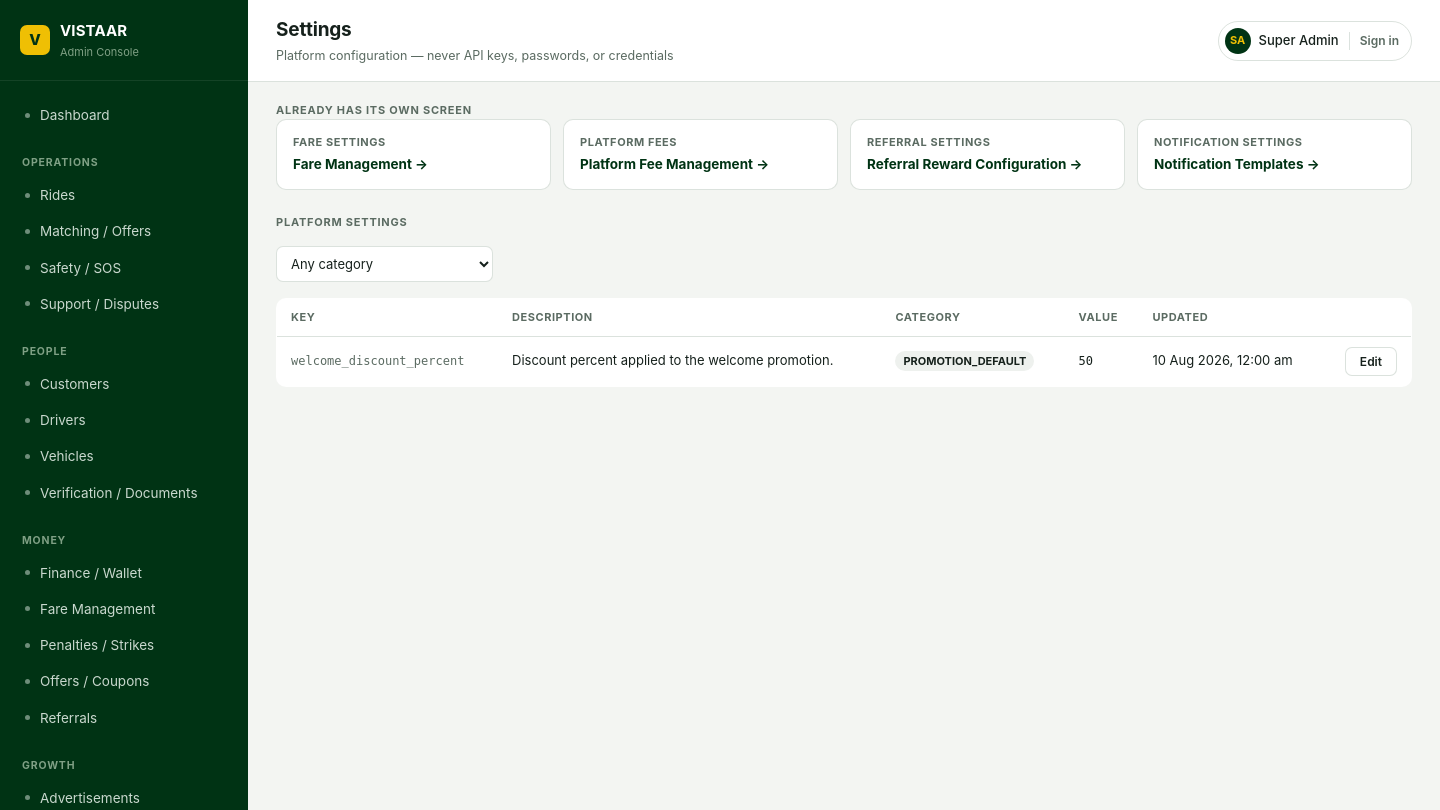
Scenario: SettingsPage › shows a validation error instead of saving on invalid JSON
The image size is (1440, 810).
Click the button "Edit": (1371,361) [1345,346,1397,376]
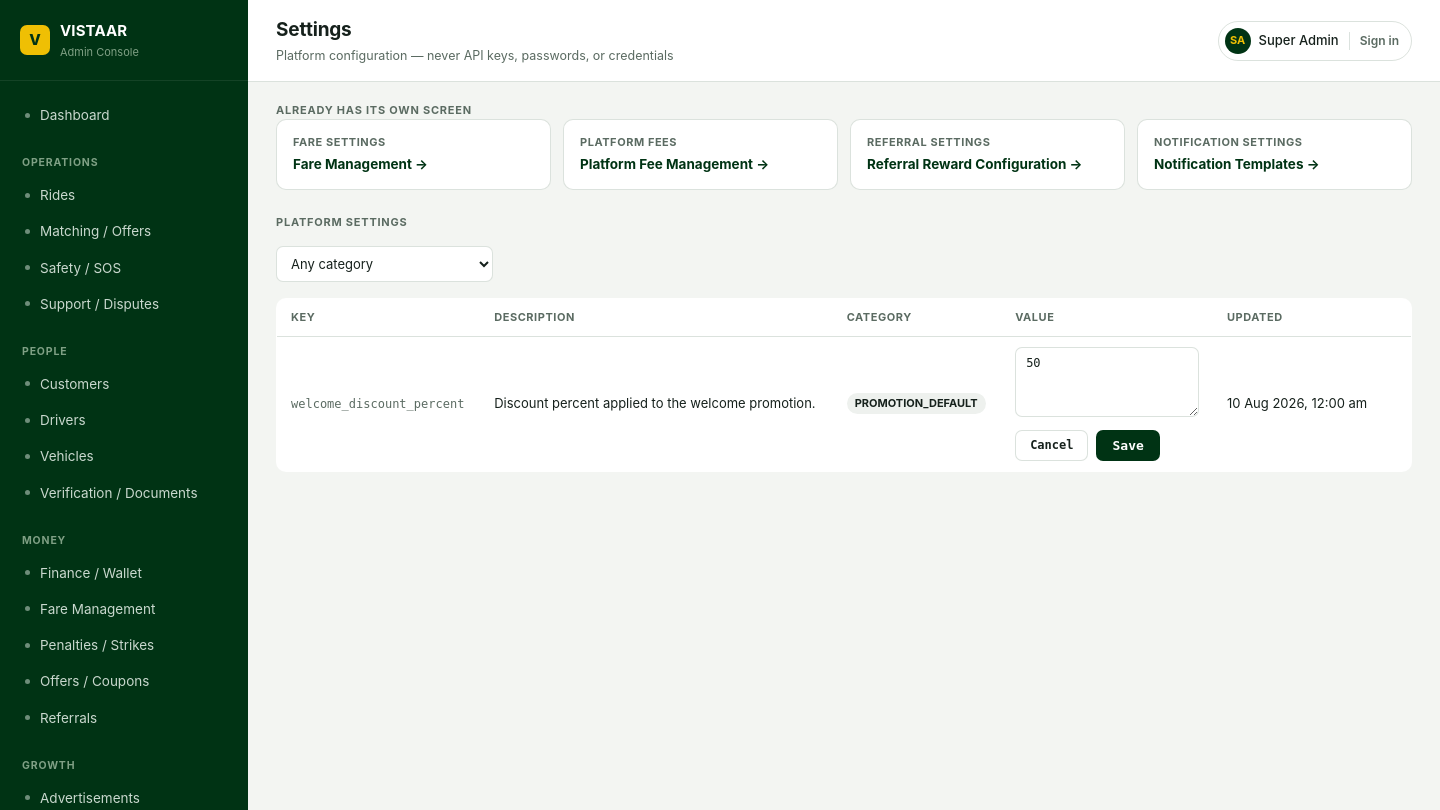
Replace the text in the text box named "Value for welcome_discount_percent" with "not valid json at all": (1107,382) [1015,346,1199,416]
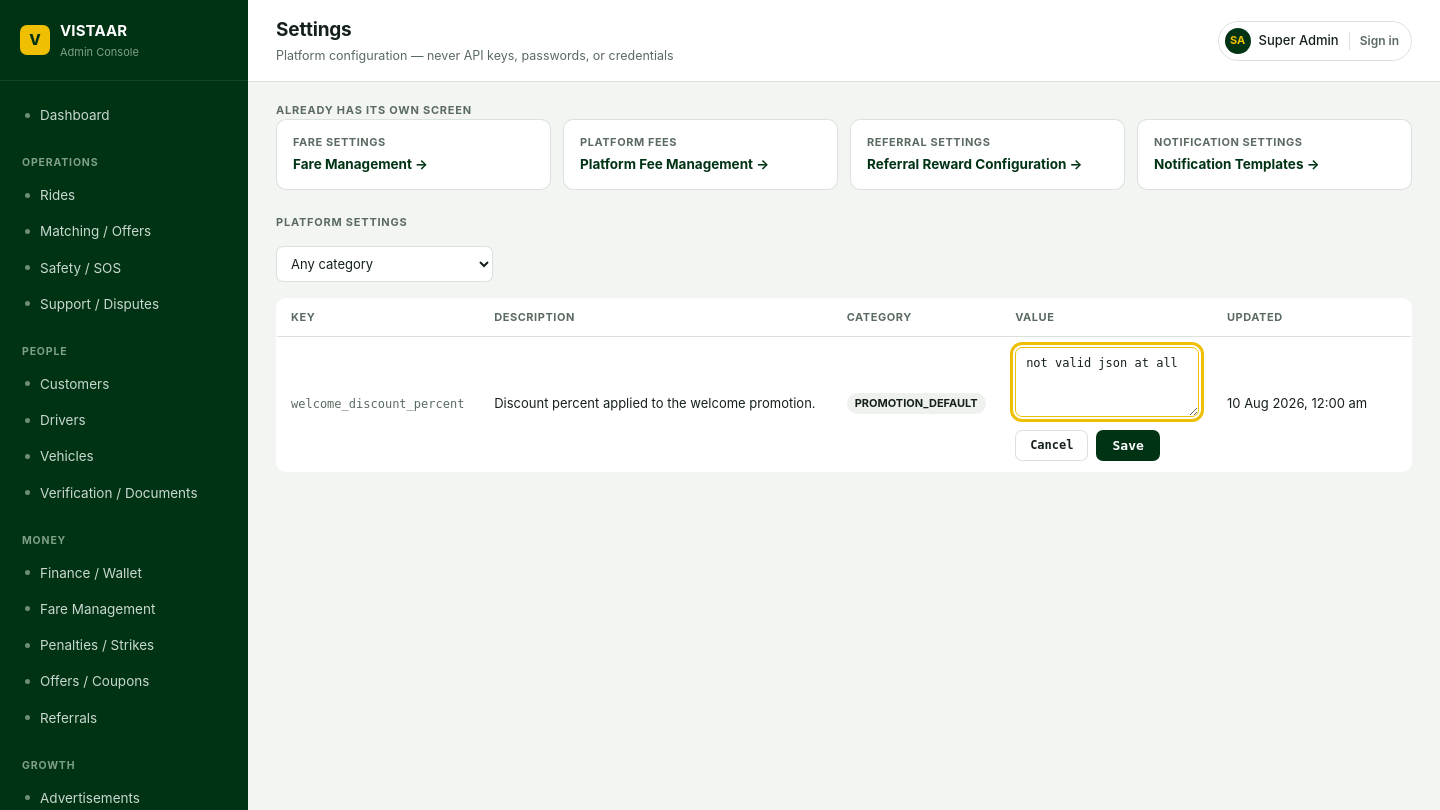
Click the button "Save": (1128,445) [1096,430,1160,460]
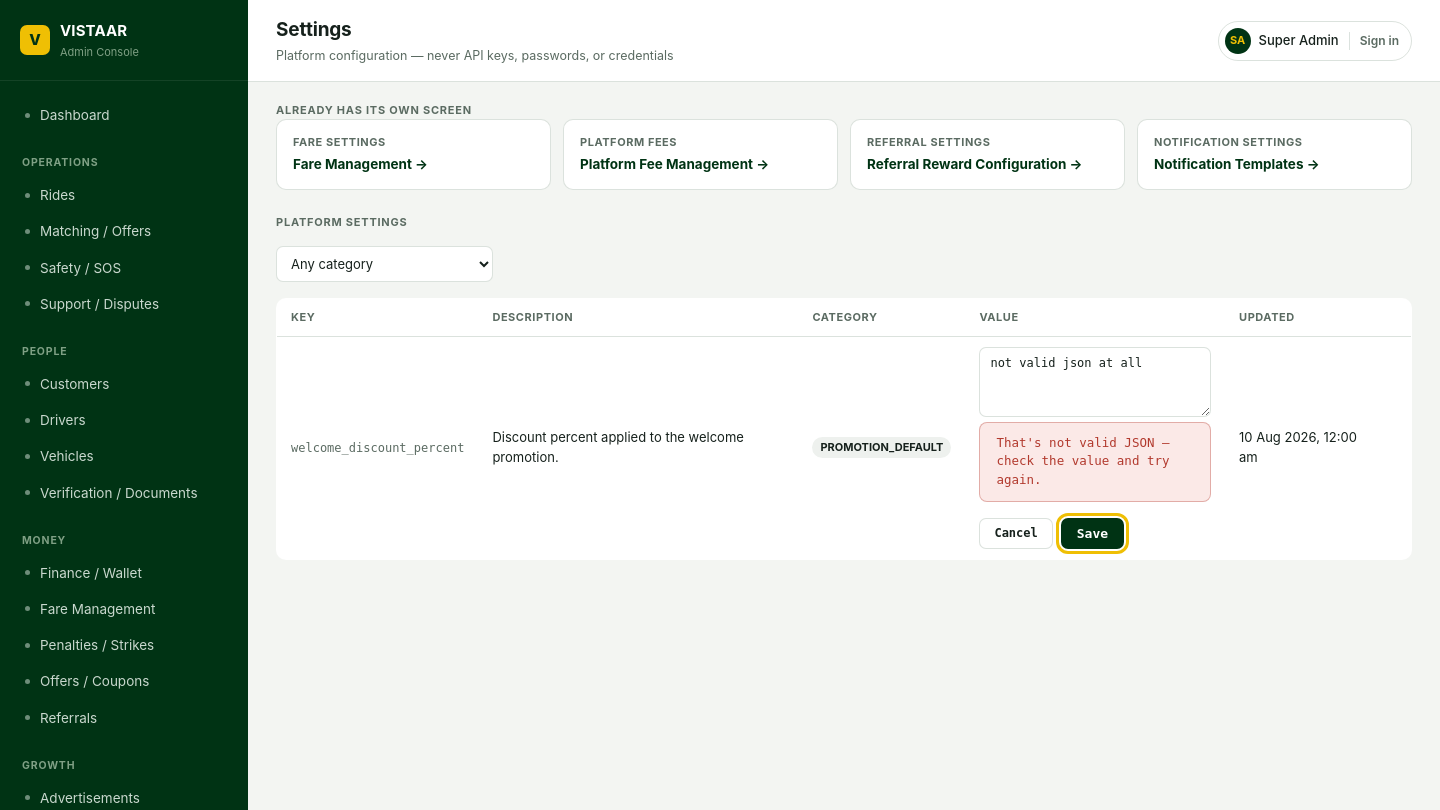
expect the text "That's not valid JSON — check the value and try again." is shown: met, box [979,422,1211,502]
